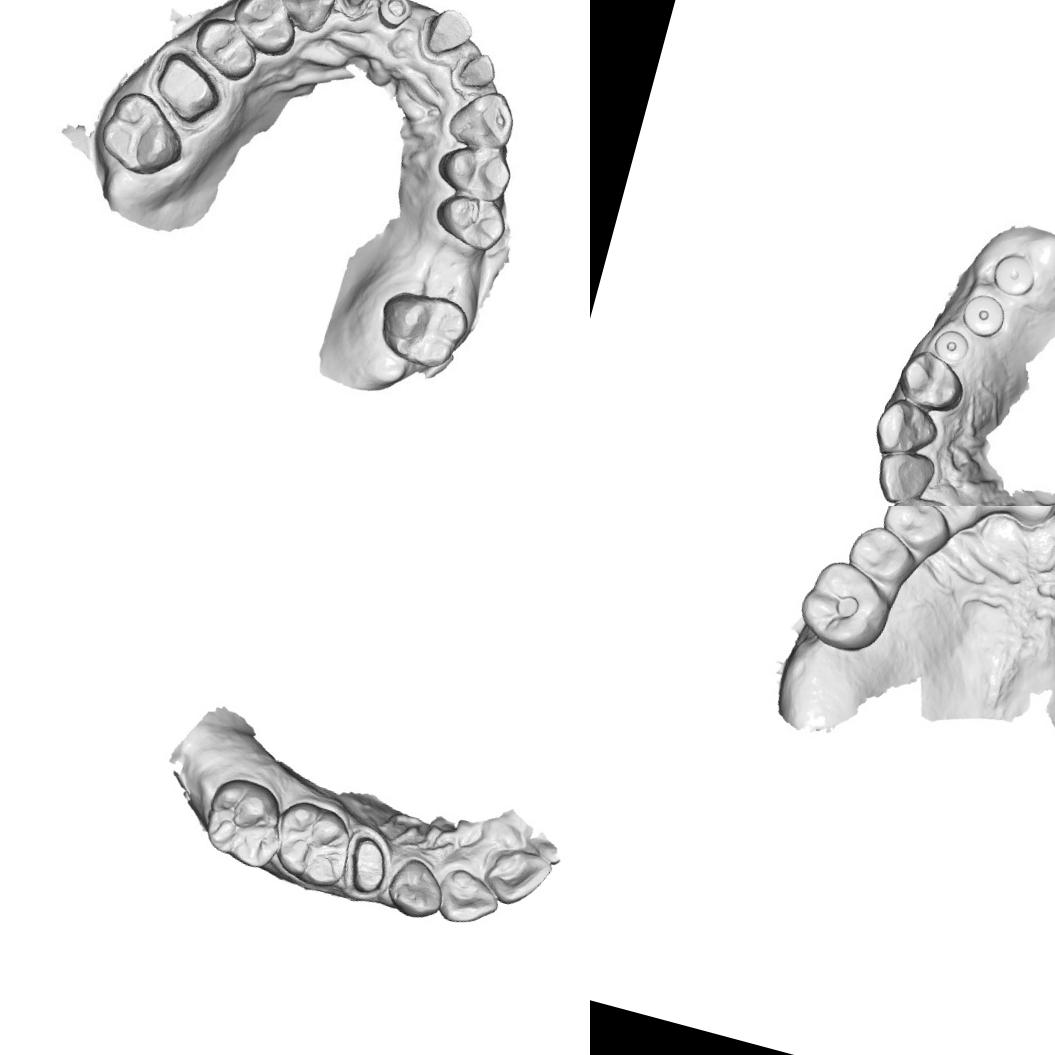canine: (439, 80, 524, 160), (869, 393, 939, 465), (382, 852, 450, 924), (278, 0, 338, 33), (915, 506, 993, 527)
crown: (152, 52, 223, 122), (337, 824, 398, 904), (422, 7, 474, 62), (452, 46, 497, 98), (337, 0, 376, 11)
implant: (985, 246, 1043, 306), (958, 288, 1010, 342), (924, 321, 975, 371), (373, 0, 414, 38)
incisor: (478, 842, 556, 914), (430, 864, 506, 932), (876, 446, 938, 506), (996, 506, 1055, 531), (882, 491, 950, 506)
molar: (790, 552, 901, 661), (87, 84, 197, 188), (192, 767, 296, 875), (367, 280, 474, 378), (258, 793, 362, 893)
premolar: (432, 134, 516, 208), (840, 518, 922, 592), (426, 186, 510, 257), (892, 344, 971, 418), (190, 11, 262, 79), (875, 506, 958, 561), (231, 0, 298, 55)
